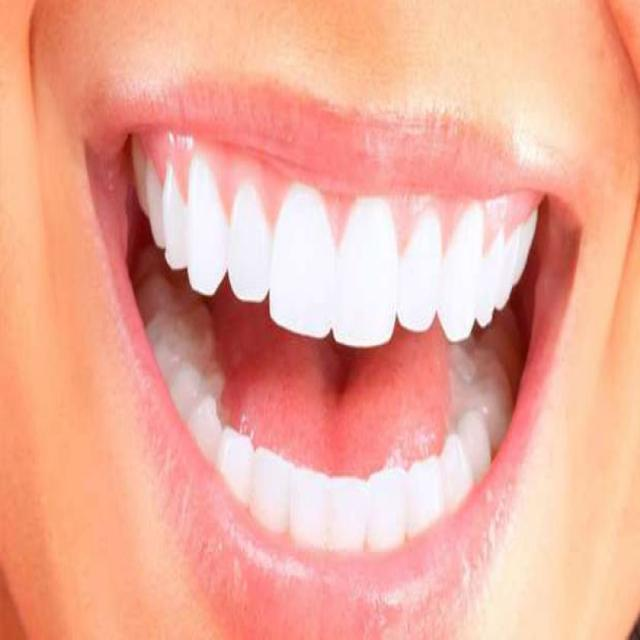tooth: (348, 204, 397, 344), (274, 208, 326, 318), (444, 216, 474, 337), (404, 235, 436, 329), (236, 173, 262, 272), (369, 472, 402, 547), (187, 186, 216, 270), (296, 464, 326, 540), (326, 479, 359, 541), (436, 451, 470, 508), (249, 452, 285, 502), (484, 237, 505, 315), (162, 180, 182, 252), (410, 467, 430, 536), (220, 444, 246, 490), (200, 396, 219, 451)
